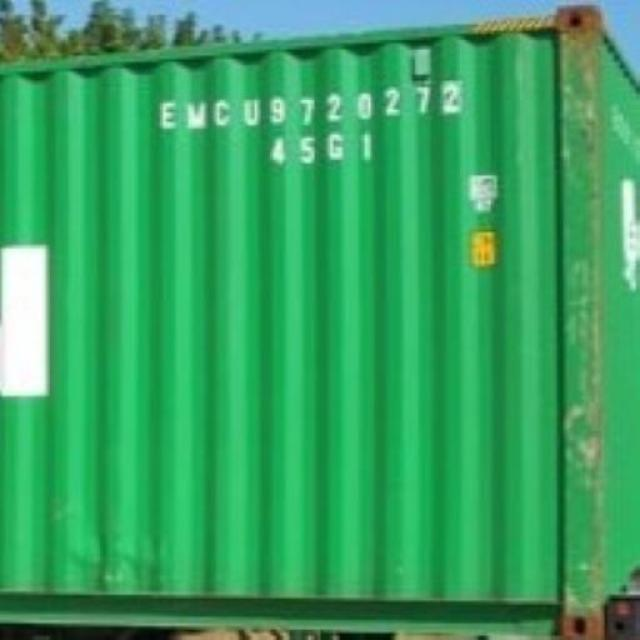ISO: (269, 134, 386, 168)
container_number: (156, 80, 461, 131)
